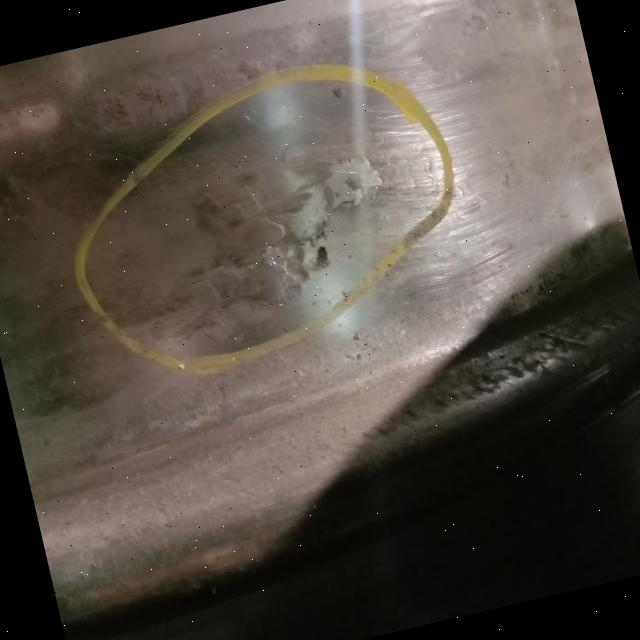Rollerpile: (86, 128, 458, 387)
